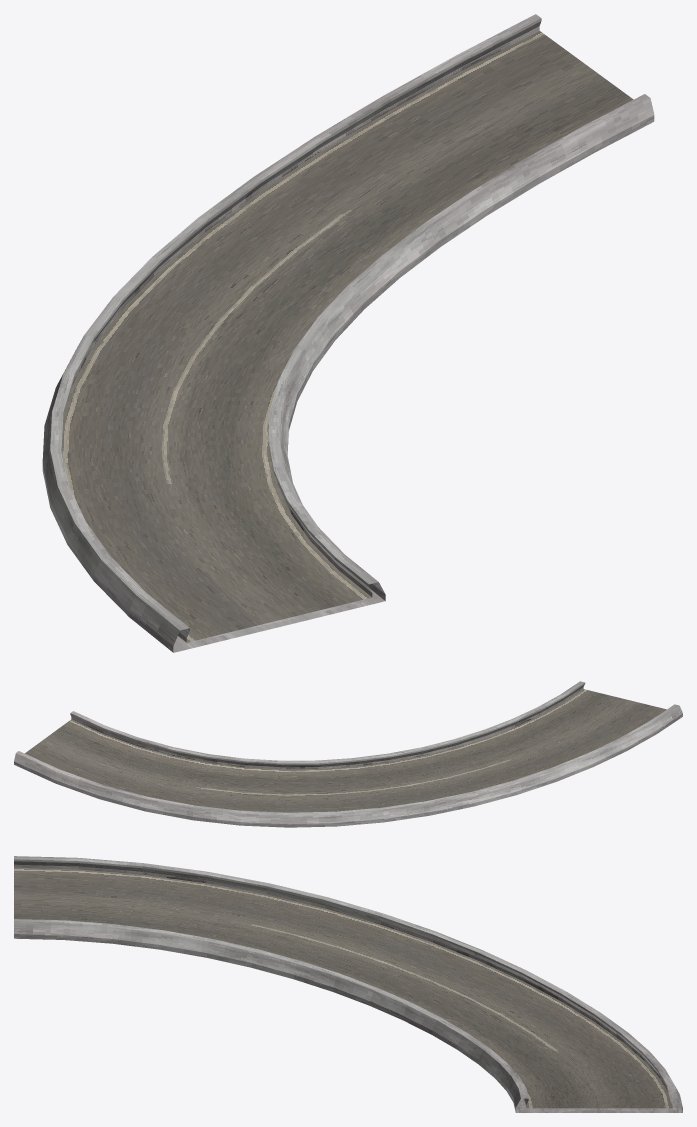
Rendered from turn-right4x4.glb.
3 renders of one model, top to bottom at view 1: azimuth 30°, elevation 25°; view 2: azimuth 150°, elevation 25°; view 3: azimuth 270°, elevation 25°, orthographic. The views are drawn at different scales.
Parts seen in each view (by area): view 1: road-Turn-Flat-BiSlopeUp-Up1-Right-Size4; view 2: road-Turn-Flat-BiSlopeUp-Up1-Right-Size4; view 3: road-Turn-Flat-BiSlopeUp-Up1-Right-Size4.
Boxes of the visible parts, <box> form: road-Turn-Flat-BiSlopeUp-Up1-Right-Size4: <box>42,14,654,652</box>; road-Turn-Flat-BiSlopeUp-Up1-Right-Size4: <box>14,681,682,827</box>; road-Turn-Flat-BiSlopeUp-Up1-Right-Size4: <box>14,856,682,1112</box>.
Bounding box in the file's own units: 4 × 0.4259 × 4.
Materials: 2 (2 with a texture image).
